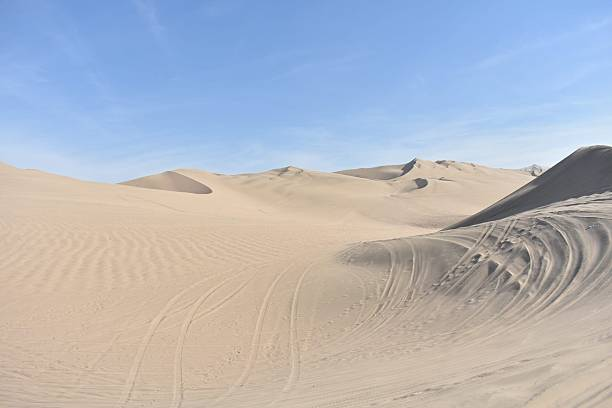vehicle_track: (118, 277, 213, 406), (214, 262, 293, 403), (170, 269, 247, 407), (269, 261, 315, 405), (283, 263, 314, 392)
